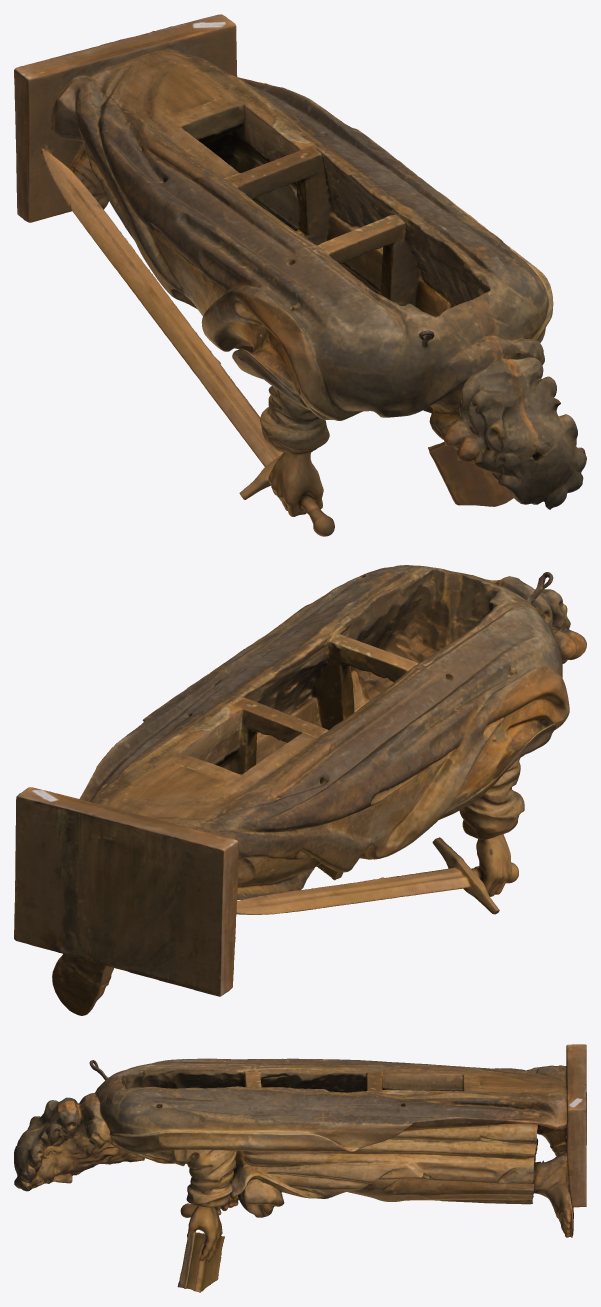
The model's file is RZ_12_2012_Rzezba_sw_Pawel_Apostol__4K.fbx.
3 renders of one model, top to bottom at view 1: azimuth 30°, elevation 25°; view 2: azimuth 150°, elevation 25°; view 3: azimuth 270°, elevation 25°, orthographic. The views are drawn at different scales.
Parts seen in each view (by area): view 1: RZ_12_2012_Rzezba_sw_Pawel_Apostol__01_RC; view 2: RZ_12_2012_Rzezba_sw_Pawel_Apostol__01_RC; view 3: RZ_12_2012_Rzezba_sw_Pawel_Apostol__01_RC.
Part boxes in pixels (box(x1,y1,x2,y2)): RZ_12_2012_Rzezba_sw_Pawel_Apostol__01_RC: box(14, 14, 586, 536); RZ_12_2012_Rzezba_sw_Pawel_Apostol__01_RC: box(14, 565, 586, 1015); RZ_12_2012_Rzezba_sw_Pawel_Apostol__01_RC: box(14, 1044, 586, 1292).
Bounding box in the file's own units: 0.7642 × 0.6741 × 1.88.
1 material, 1 textured.
